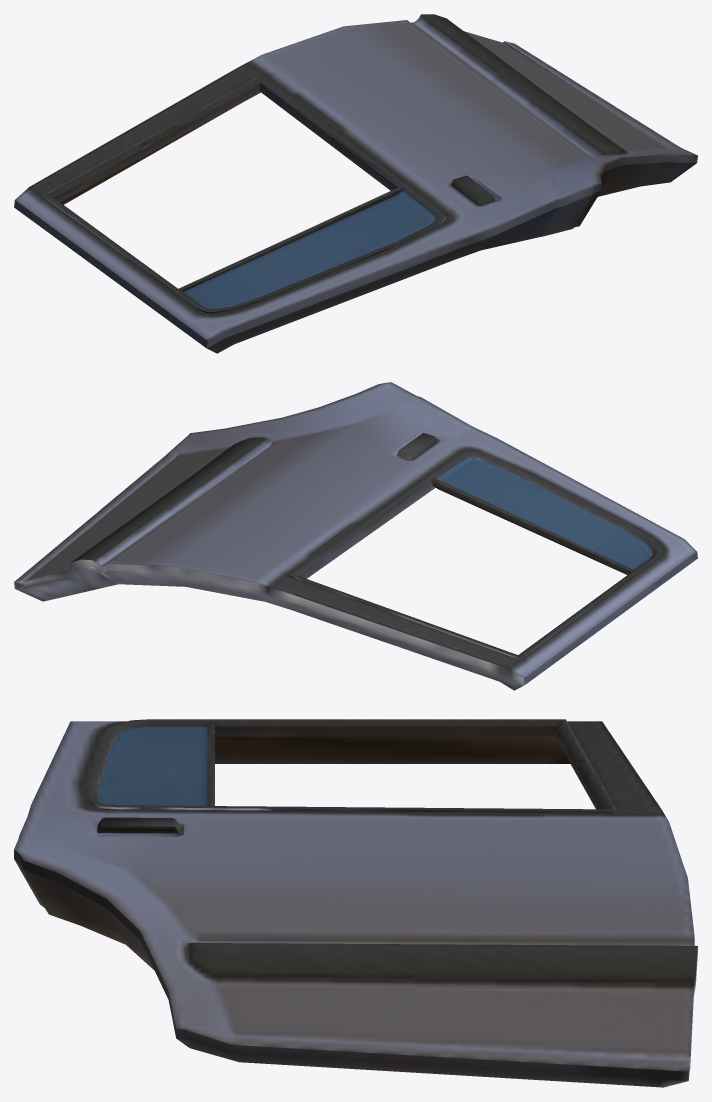
Rendered from FordExplorerRearDoor_WorldItem.fbx.
The picture shows the model from 3 angles, top to bottom: view 1: azimuth 30°, elevation 25°; view 2: azimuth 150°, elevation 25°; view 3: azimuth 270°, elevation 25°; orthographic projection. The views are drawn at different scales.
Parts seen in each view (by area): view 1: RearRightDoor__obj; view 2: RearRightDoor__obj; view 3: RearRightDoor__obj.
Boxes of the visible parts, x1,y1,x2,y2 form: RearRightDoor__obj: [14, 14, 697, 353]; RearRightDoor__obj: [14, 382, 697, 690]; RearRightDoor__obj: [14, 719, 697, 1087].
Size of the model in its own units: 1.73 by 0.3272 by 1.42.
